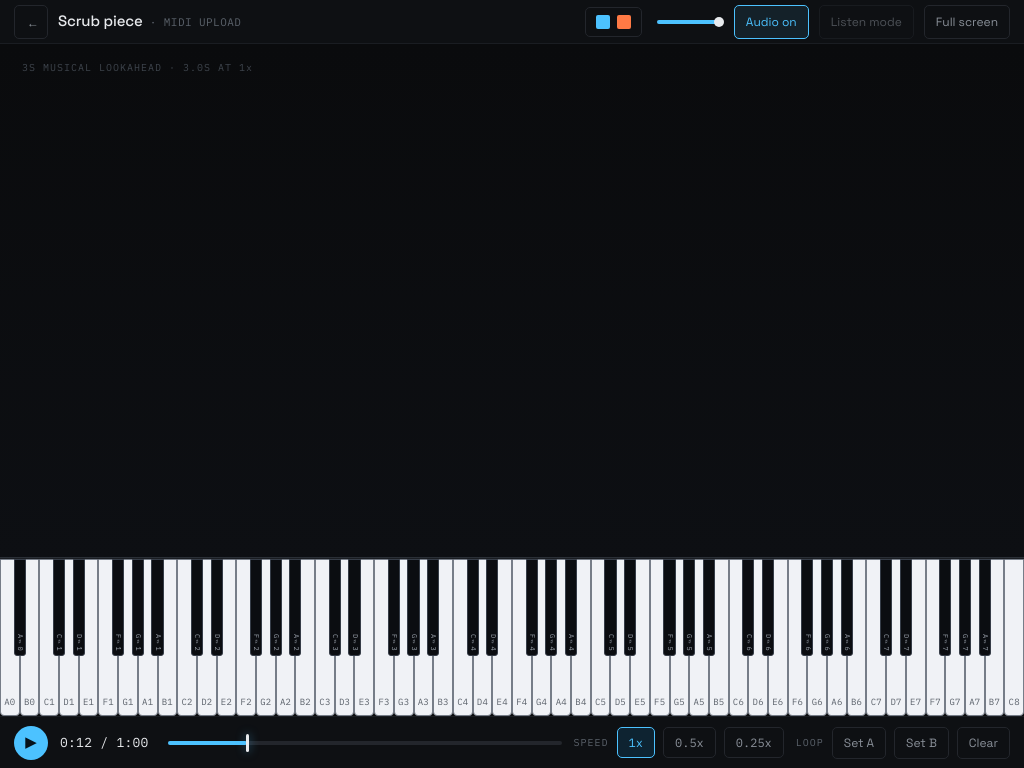
Test case: transport controls › [AC4] updates the waterfall visualization before a scrub is released
The image size is (1024, 768).
Press the mouse on the element with test id "seek-bar" at (365, 742), box [168,734,562,752]
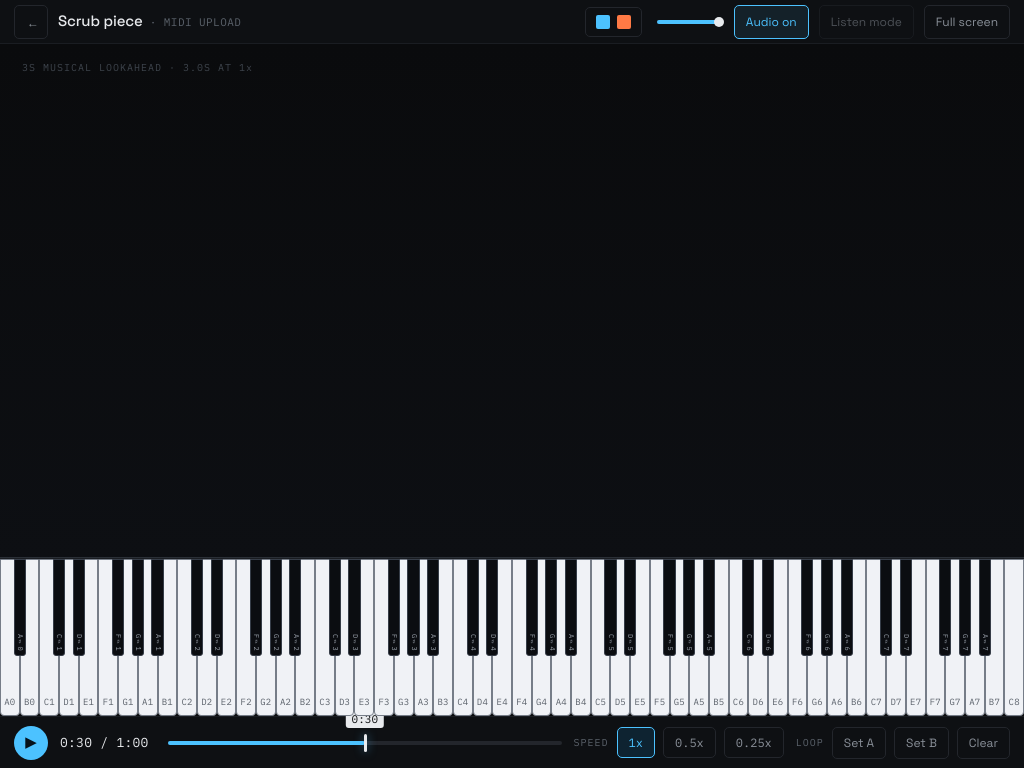
Result: the message "0:30" is shown at [346,710,384,728]
